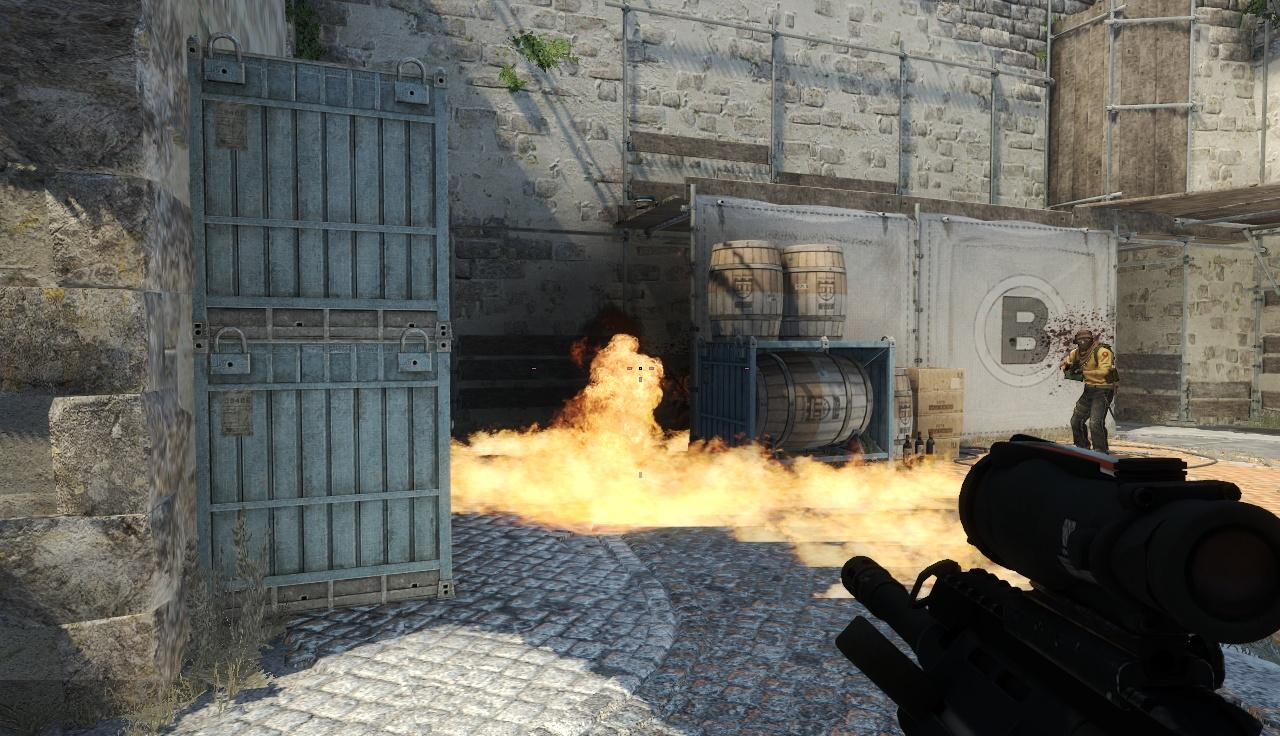rifle: (844, 433, 1280, 732)
sniper: (844, 433, 1280, 732)
tt: (1069, 332, 1120, 453)
tthead: (1074, 328, 1093, 350)
